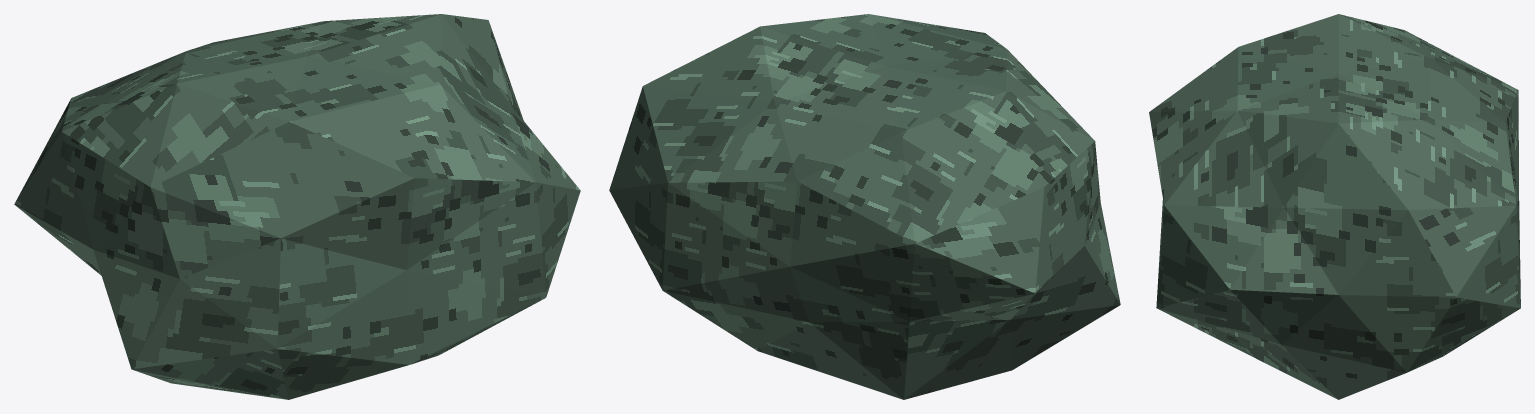
Rendered from boulder.glb.
The picture shows the model from 3 angles, left to right: view 1: azimuth 30°, elevation 25°; view 2: azimuth 150°, elevation 25°; view 3: azimuth 270°, elevation 25°; orthographic projection. The views are drawn at different scales.
Parts seen in each view (by area): view 1: boulder; view 2: boulder; view 3: boulder.
Part boxes in pixels (x1,y1,x2,y2): boulder: (14, 14, 580, 399); boulder: (609, 14, 1120, 399); boulder: (1149, 14, 1520, 399).
Size of the model in its own units: 1.4 by 0.9072 by 1.12.
Materials: 1 (1 with a texture image).
